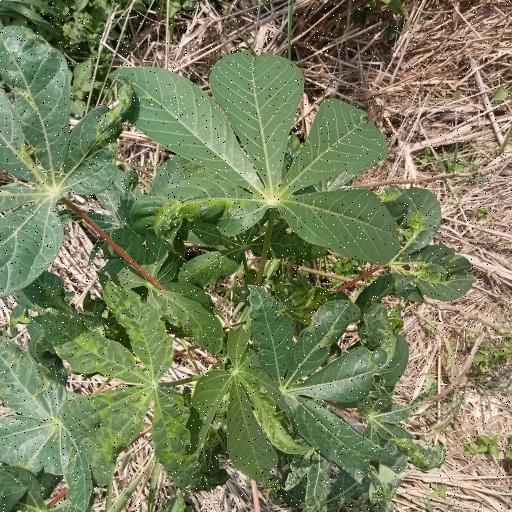Cassava_Mosaic: (0, 26, 131, 282), (41, 282, 191, 482)
